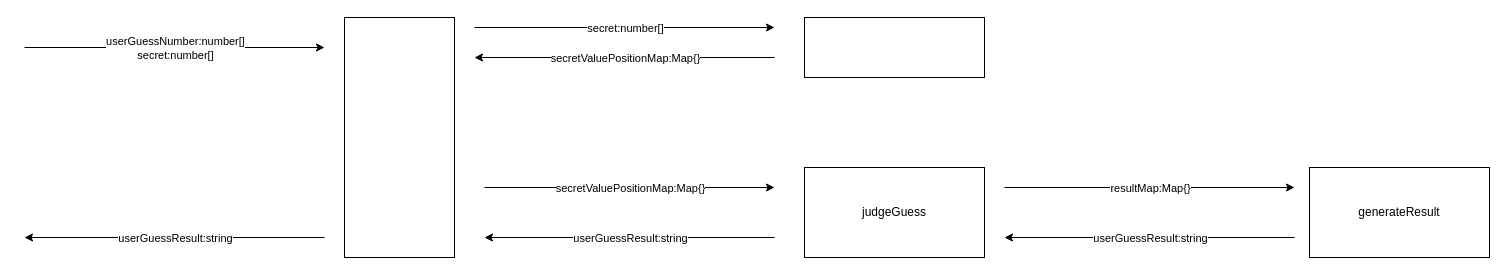
Some shapes in this 1507 by 275 pixel diagram are drawn without their labels. Each missing label, with the centre of its shape:
"judgeGuessResult" goes at (x=399, y=137).
"mapSecretValueAndPosition" goes at (x=894, y=47).
